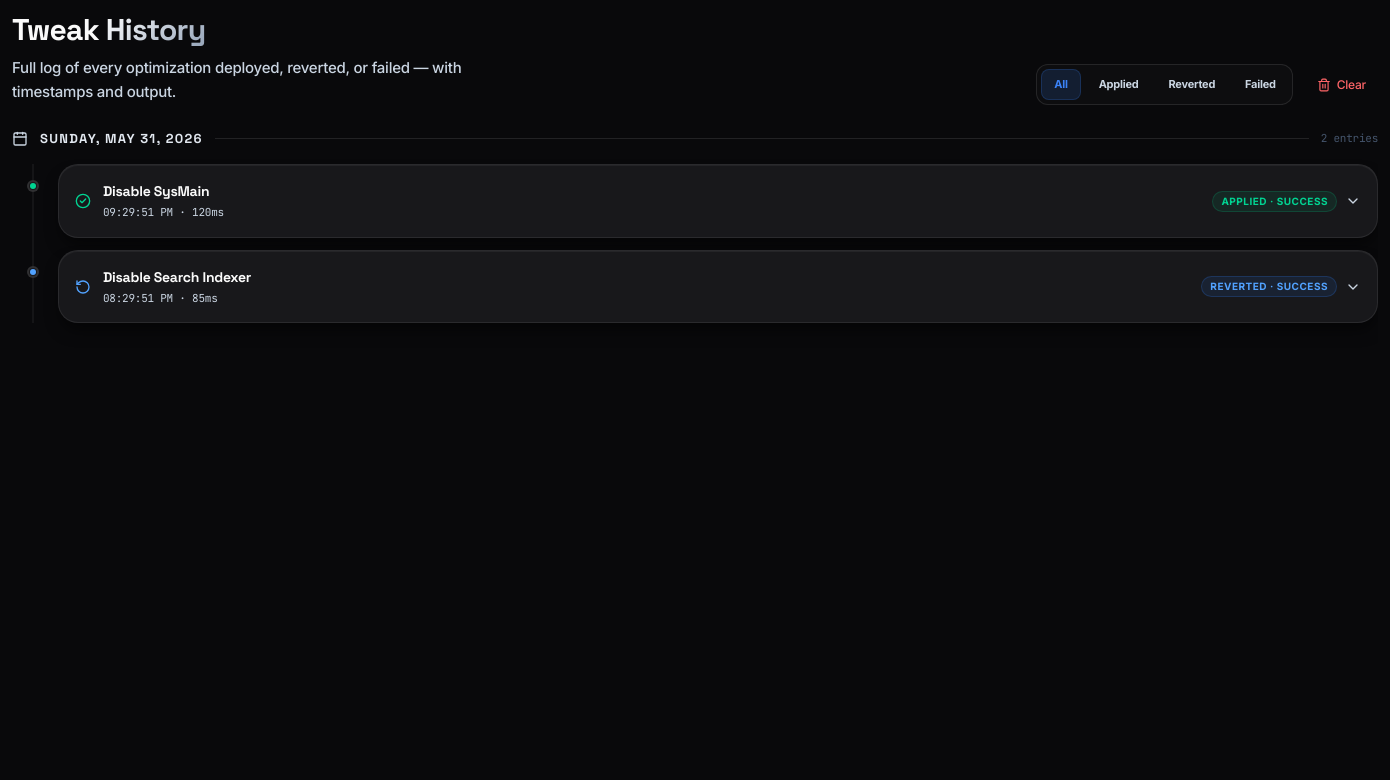
Test: HistoryPage › clicking same entry again collapses it
Click the heading "Disable SysMain".
click(163, 192)  # box [103,181,224,202]
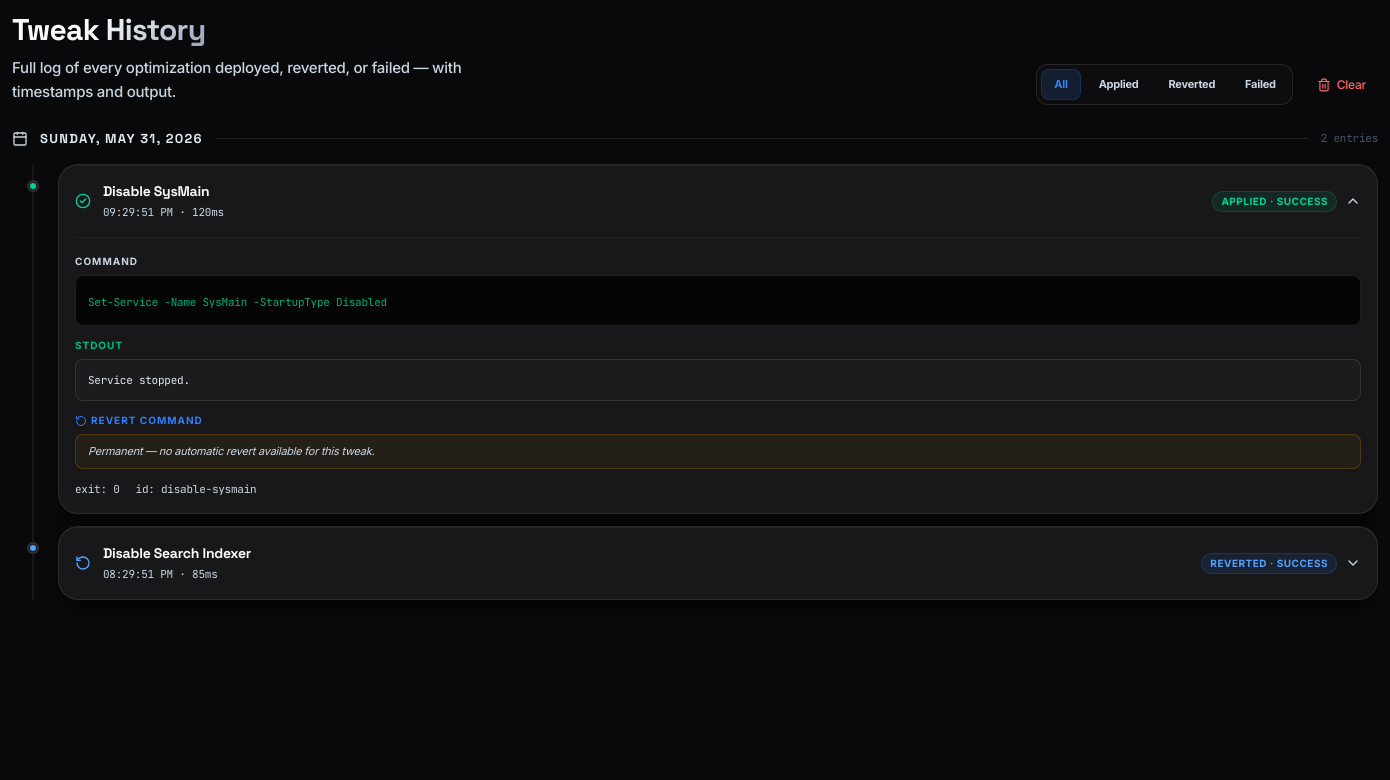
Check: the text "Set-Service -Name SysMain -StartupType Disabled" is shown, box [88,295,387,309]
Click the heading "Disable SysMain".
click(163, 192)  # box [103,181,224,202]
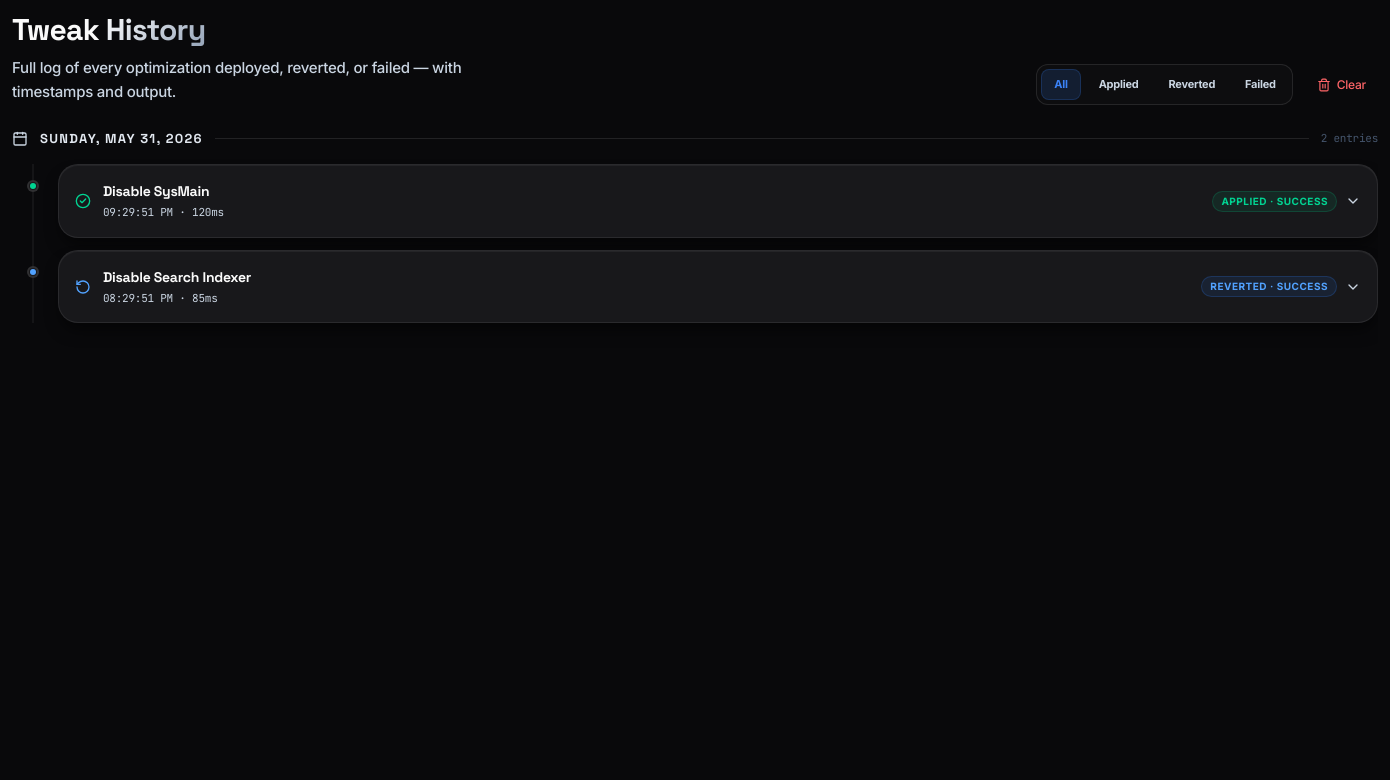
Check: the text "Set-Service -Name SysMain -StartupType Disabled" is gone
